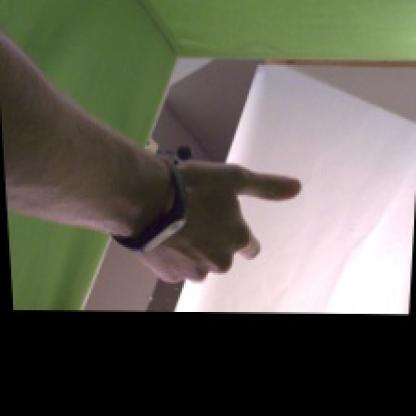Hand: (144, 160, 303, 286)
